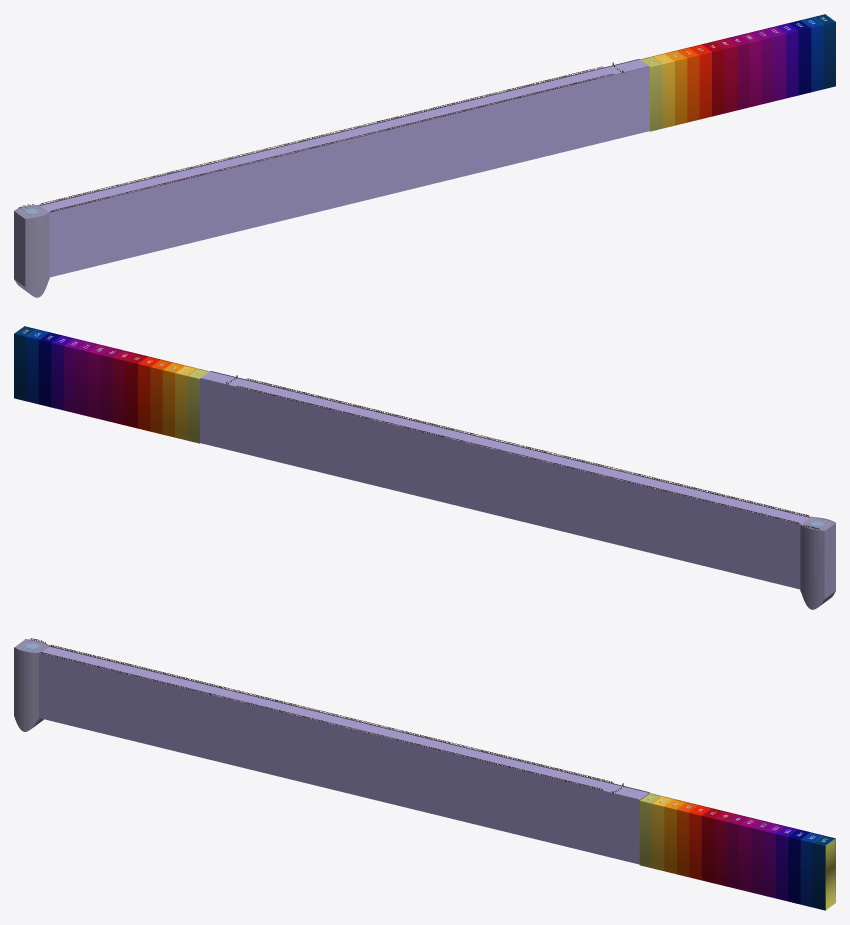
File: Endplatform.fbx
3 renders of one model, top to bottom at view 1: azimuth 30°, elevation 25°; view 2: azimuth 150°, elevation 25°; view 3: azimuth 330°, elevation 25°, orthographic.
Visible parts, largest first — view 1: Cube.072, ENDGAMEPLATFORM, Cube.001, Cube.146, 497cf374499741e096242c60b124319f.obj.001, 497cf374499741e096242c60b124319f.obj.010; view 2: Cube.072, ENDGAMEPLATFORM, Cube.001, Cube.146, 497cf374499741e096242c60b124319f.obj.001, 497cf374499741e096242c60b124319f.obj.010; view 3: Cube.072, ENDGAMEPLATFORM, Cube.001, Cube.146, 497cf374499741e096242c60b124319f.obj.001, 497cf374499741e096242c60b124319f.obj.010.
Part boxes in pixels (left/top/right/bottom): Cube.072: left=40, top=59, right=649, bottom=277; ENDGAMEPLATFORM: left=640, top=14, right=835, bottom=131; Cube.001: left=14, top=204, right=49, bottom=297; Cube.146: left=40, top=59, right=648, bottom=212; 497cf374499741e096242c60b124319f.obj.001: left=49, top=74, right=613, bottom=212; 497cf374499741e096242c60b124319f.obj.010: left=40, top=66, right=603, bottom=204; Cube.072: left=200, top=371, right=809, bottom=589; ENDGAMEPLATFORM: left=14, top=326, right=209, bottom=443; Cube.001: left=800, top=516, right=835, bottom=609; Cube.146: left=201, top=371, right=809, bottom=524; 497cf374499741e096242c60b124319f.obj.001: left=246, top=378, right=809, bottom=516; 497cf374499741e096242c60b124319f.obj.010: left=236, top=386, right=799, bottom=524; Cube.072: left=39, top=646, right=649, bottom=864; ENDGAMEPLATFORM: left=639, top=793, right=835, bottom=910; Cube.001: left=14, top=638, right=49, bottom=731; Cube.146: left=39, top=646, right=649, bottom=799; 497cf374499741e096242c60b124319f.obj.001: left=39, top=652, right=603, bottom=790; 497cf374499741e096242c60b124319f.obj.010: left=49, top=645, right=613, bottom=783.
Size of the model in its own units: 43134 by 4226 by 1314.
Materials: 4 (1 with a texture image).
